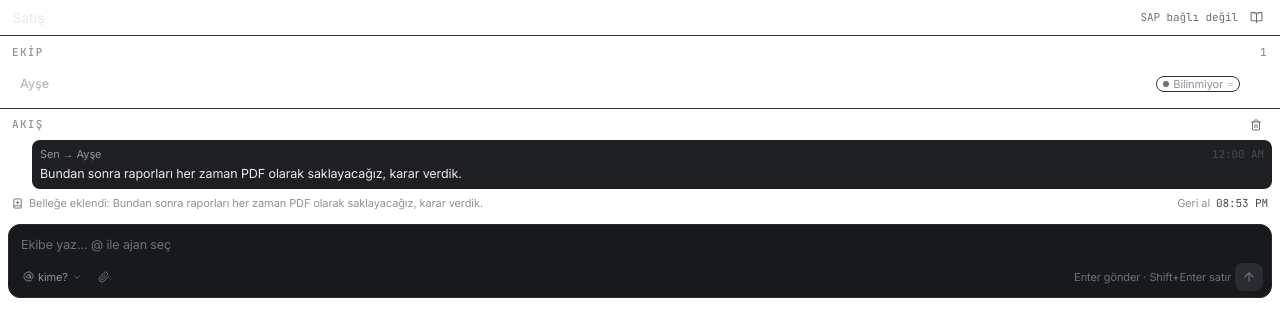
Test: FlowProvider — otomatik yakalama › Akış satırı: 'Belleğe eklendi' ve Geri al notu siliyor
Expected: the text "Belleğe eklendi:" is shown, top-left (29, 196), bottom-right (483, 210)
Click the button "Geri al".
click(1194, 204)  # box top-left (1177, 195), bottom-right (1210, 212)
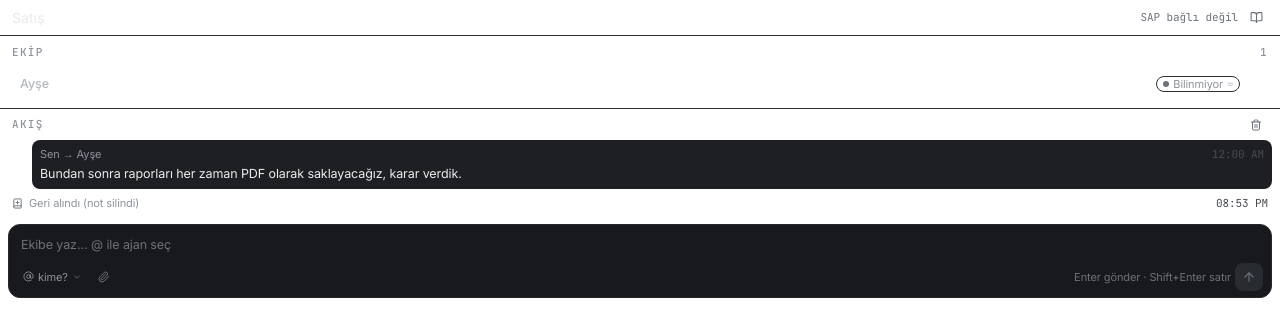
Expected: the text "Geri alındı (not silindi)" is shown, top-left (29, 196), bottom-right (139, 210)
